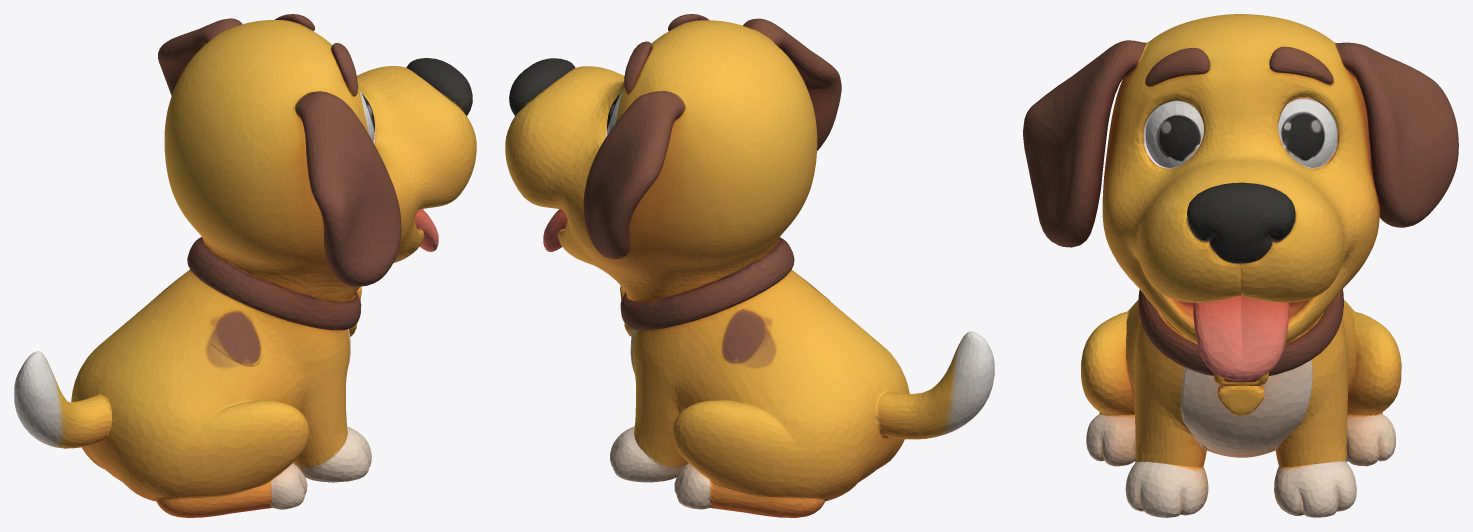
File: meal_1.glb
3 views of the same model, side by side, from view 1: azimuth 30°, elevation 25°; view 2: azimuth 150°, elevation 25°; view 3: azimuth 270°, elevation 25° (orthographic). The views are drawn at different scales.
Visible parts, largest first — view 1: tripo_node_20ae806e-d605-42b9-80c4-5f36aacc5761; view 2: tripo_node_20ae806e-d605-42b9-80c4-5f36aacc5761; view 3: tripo_node_20ae806e-d605-42b9-80c4-5f36aacc5761.
Boxes of the visible parts, box(x1,y1,x2,y2) form: tripo_node_20ae806e-d605-42b9-80c4-5f36aacc5761: box(14, 14, 476, 517); tripo_node_20ae806e-d605-42b9-80c4-5f36aacc5761: box(505, 14, 994, 517); tripo_node_20ae806e-d605-42b9-80c4-5f36aacc5761: box(1023, 14, 1458, 517).
Bounding box in the file's own units: 1 × 0.8707 × 0.7344.
1 material, 1 textured.
